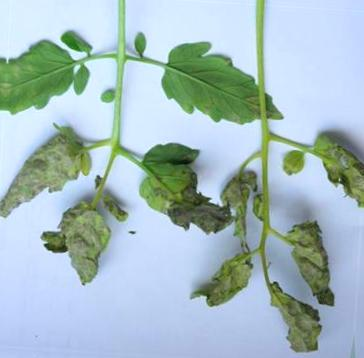Tomato mold leaf: (156, 32, 290, 129), (135, 139, 238, 240), (0, 120, 96, 225), (3, 42, 82, 123), (56, 201, 121, 298)
